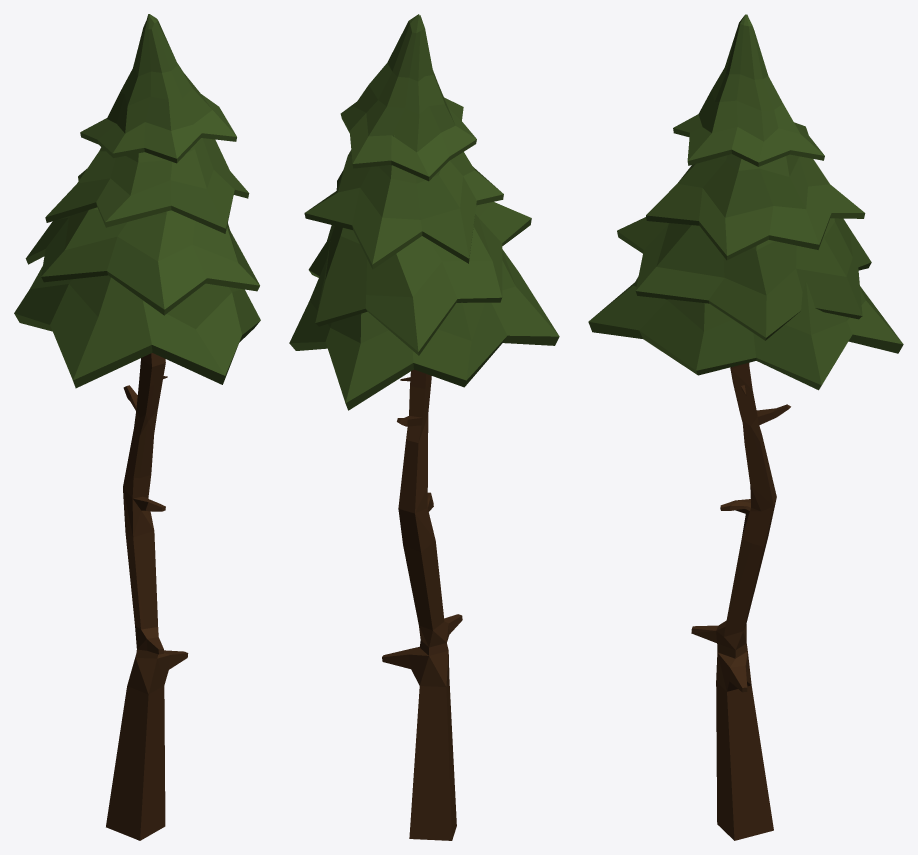
The model's file is talltree.fbx.
The picture shows the model from 3 angles, left to right: view 1: azimuth 30°, elevation 25°; view 2: azimuth 150°, elevation 25°; view 3: azimuth 270°, elevation 25°; orthographic projection.
Parts seen in each view (by area): view 1: Circle.001, Cube.001, Circle.002, Circle.010, Circle.005; view 2: Cube.001, Circle.002, Circle.001, Circle.010, Circle.005; view 3: Circle.002, Cube.001, Circle.001, Circle.010, Circle.005.
Part boxes in pixels (box(x1,y1,x2,y2)): Circle.001: box(14, 266, 260, 388); Cube.001: box(106, 353, 188, 840); Circle.002: box(25, 207, 259, 315); Circle.010: box(45, 138, 249, 233); Circle.005: box(80, 14, 236, 163); Cube.001: box(382, 369, 462, 840); Circle.002: box(308, 201, 531, 355); Circle.001: box(289, 249, 559, 410); Circle.010: box(304, 135, 503, 269); Circle.005: box(340, 14, 476, 181); Circle.002: box(617, 217, 871, 340); Cube.001: box(691, 363, 790, 840); Circle.001: box(588, 276, 903, 390); Circle.010: box(646, 154, 865, 260); Circle.005: box(673, 14, 824, 166).
Size of the model in its own units: 739 by 2755 by 959.
